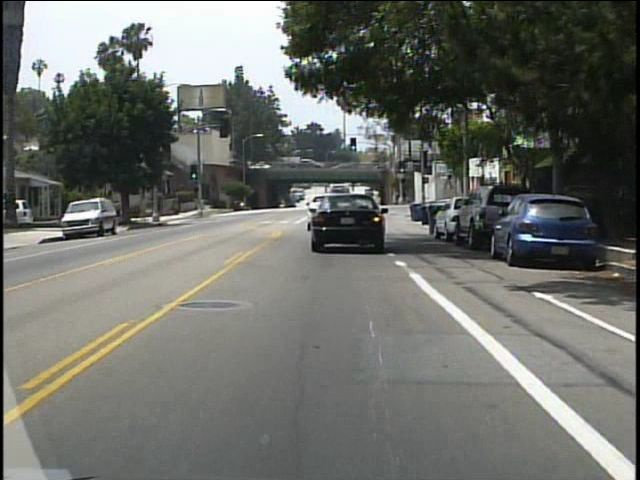person: (115, 199, 124, 224)
